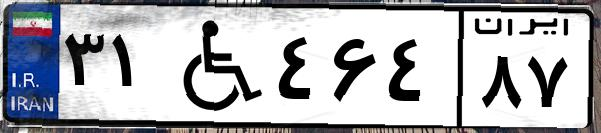1: (110, 28, 158, 98)
3: (57, 26, 110, 100)
4: (270, 28, 330, 110), (385, 28, 445, 110)
6: (330, 28, 385, 110)
7: (525, 38, 570, 115)
8: (475, 38, 525, 113)
ژ (معلولین و جانبازان): (158, 12, 270, 120)
